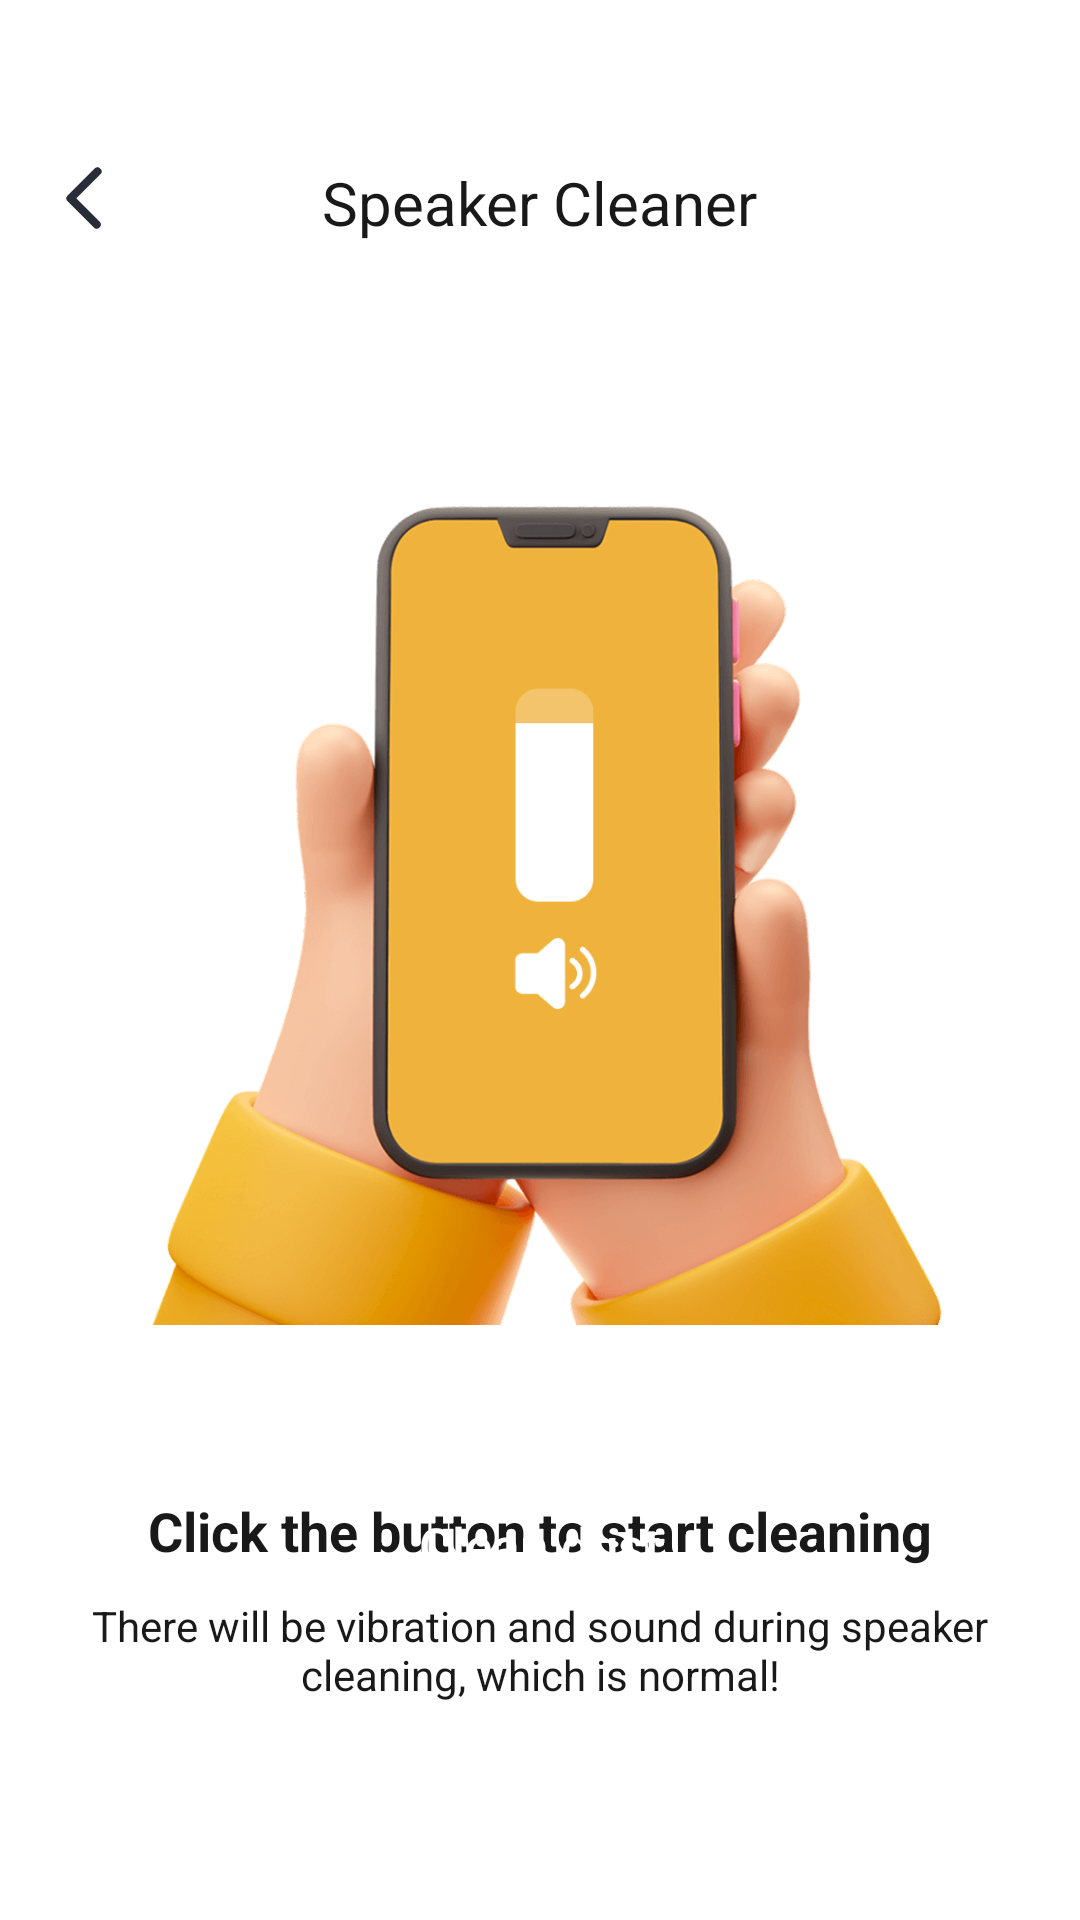

Named icons in this screenshot (1080x1920) and their centers, [x,y]:
back: [84,198]
